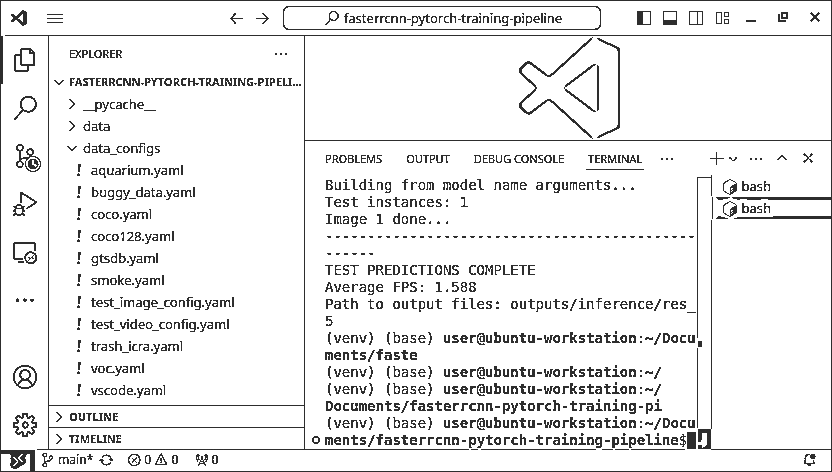Accounts: (3, 356, 42, 393)
Activity Bar: (1, 35, 47, 449)
Close: (801, 7, 823, 23)
Explorer: (4, 42, 37, 75)
Manage: (5, 407, 42, 440)
Maximize: (772, 6, 790, 25)
Minimize: (737, 7, 760, 27)
Panel: (307, 141, 827, 450), (1, 1, 827, 34)
Primary Side Bar: (48, 35, 305, 448), (304, 36, 828, 139)
Run and Debug: (1, 184, 41, 219)
Search: (3, 89, 39, 126)
Search Bar: (275, 0, 605, 32)
Source Control: (8, 136, 42, 178)
Status Bar: (0, 450, 826, 469)
